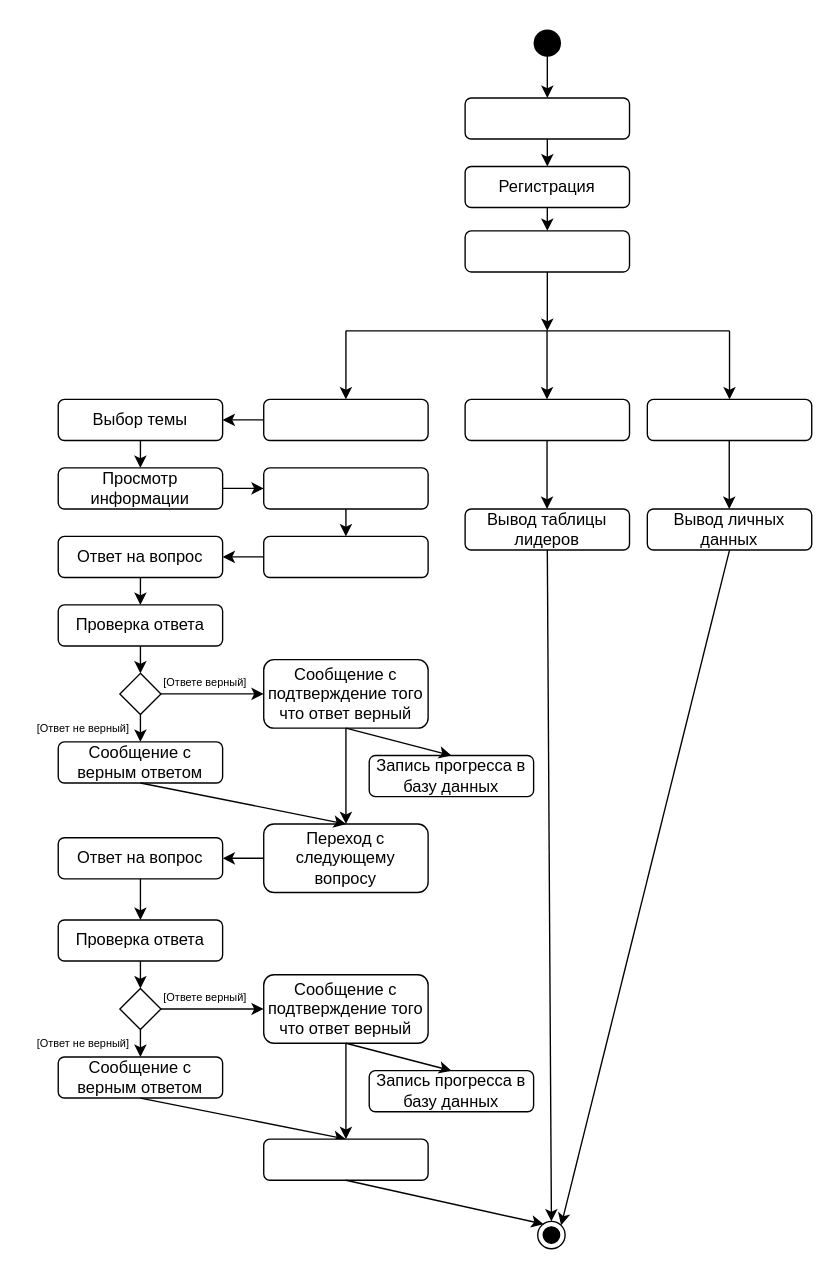
This 836x1273 diagram has some shape labels left out. Each missing label, with the centre of its shape:
Вывод вопроса: the point at 345,556
Вывод результата теста: the point at 345,1159
Выор пункта главного меню: the point at 547,250
Начать тест: the point at 345,487
Ознакомление: the point at 547,118
Открытие Личного счета: the point at 729,419
Открытие Списока тем: the point at 345,419
Открытие Таблицы лидеров: the point at 547,419
